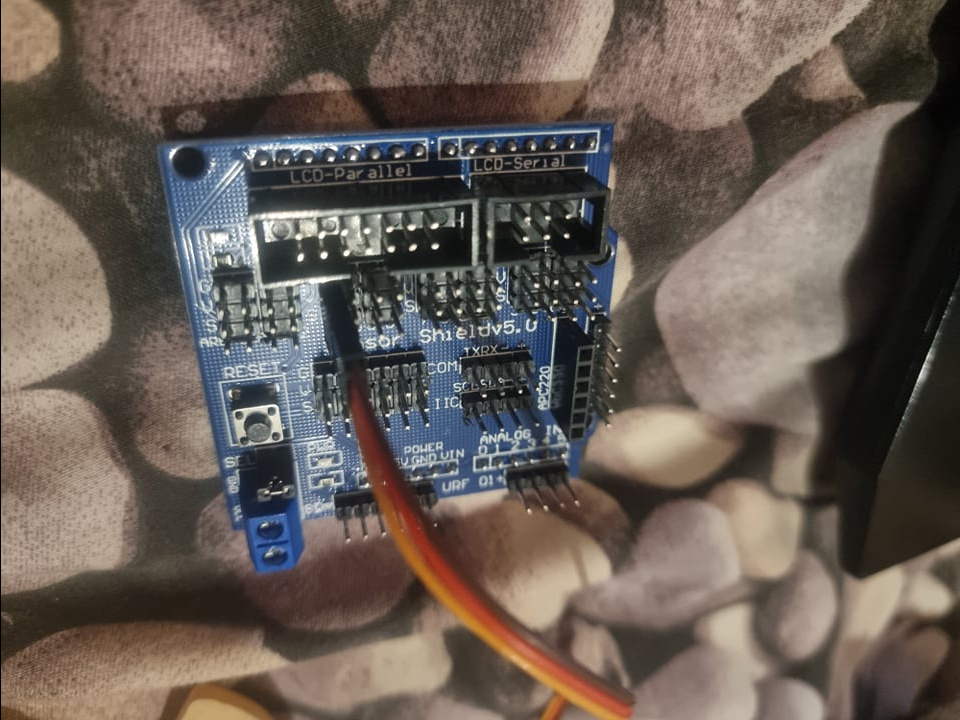5V EXPANSION: (151, 117, 621, 573)
